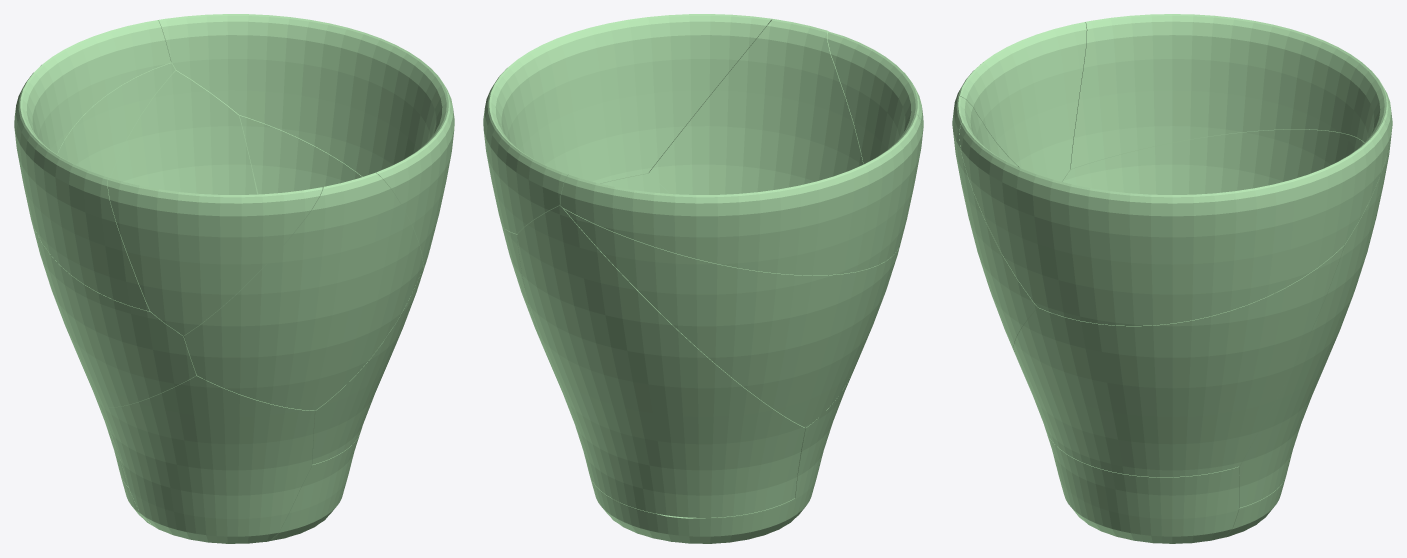
The model's file is Vase_kaputt.glb.
3 views of the same model, side by side, from view 1: azimuth 30°, elevation 25°; view 2: azimuth 150°, elevation 25°; view 3: azimuth 270°, elevation 25° (orthographic).
Visible parts, largest first — view 1: Vase_cell.003, Vase_cell.009, Vase_cell.008, Vase_cell.004, Vase_cell.006, Vase_cell.007, Vase_cell.002, Vase_cell.005, Vase_cell.001; view 2: Vase_cell.002, Vase_cell.003, Vase_cell.007, Vase_cell.004, Vase_cell.009, Vase_cell.006, Vase_cell, Vase_cell.008, Vase_cell.005; view 3: Vase_cell.003, Vase_cell.005, Vase_cell.004, Vase_cell.007, Vase_cell.006, Vase_cell.001, Vase_cell.002, Vase_cell.009, Vase_cell.
Part boxes in pixels (x1=…): Vase_cell.003: x1=158, y1=14, x2=454, y2=266; Vase_cell.009: x1=183, y1=172, x2=423, y2=410; Vase_cell.008: x1=99, y1=375, x2=314, y2=543; Vase_cell.004: x1=14, y1=20, x2=171, y2=311; Vase_cell.006: x1=107, y1=178, x2=322, y2=335; Vase_cell.007: x1=30, y1=62, x2=196, y2=407; Vase_cell.002: x1=94, y1=62, x2=258, y2=486; Vase_cell.005: x1=239, y1=115, x2=425, y2=464; Vase_cell.001: x1=270, y1=435, x2=359, y2=540; Vase_cell.002: x1=517, y1=205, x2=805, y2=517; Vase_cell.003: x1=483, y1=14, x2=771, y2=233; Vase_cell.007: x1=563, y1=208, x2=900, y2=427; Vase_cell.004: x1=560, y1=114, x2=922, y2=275; Vase_cell.009: x1=648, y1=18, x2=863, y2=194; Vase_cell.006: x1=827, y1=31, x2=923, y2=163; Vase_cell: x1=590, y1=477, x2=797, y2=543; Vase_cell.008: x1=795, y1=375, x2=851, y2=517; Vase_cell.005: x1=502, y1=173, x2=670, y2=369; Vase_cell.003: x1=959, y1=119, x2=1388, y2=325; Vase_cell.005: x1=1013, y1=245, x2=1344, y2=477; Vase_cell.004: x1=1070, y1=14, x2=1392, y2=169; Vase_cell.007: x1=1062, y1=129, x2=1389, y2=194; Vase_cell.006: x1=955, y1=22, x2=1086, y2=181; Vase_cell.001: x1=1047, y1=433, x2=1239, y2=543; Vase_cell.002: x1=1239, y1=154, x2=1388, y2=507; Vase_cell.009: x1=952, y1=96, x2=1037, y2=351; Vase_cell: x1=1226, y1=477, x2=1285, y2=537.
Size of the model in its own units: 0.6995 by 0.7057 by 0.6995.
